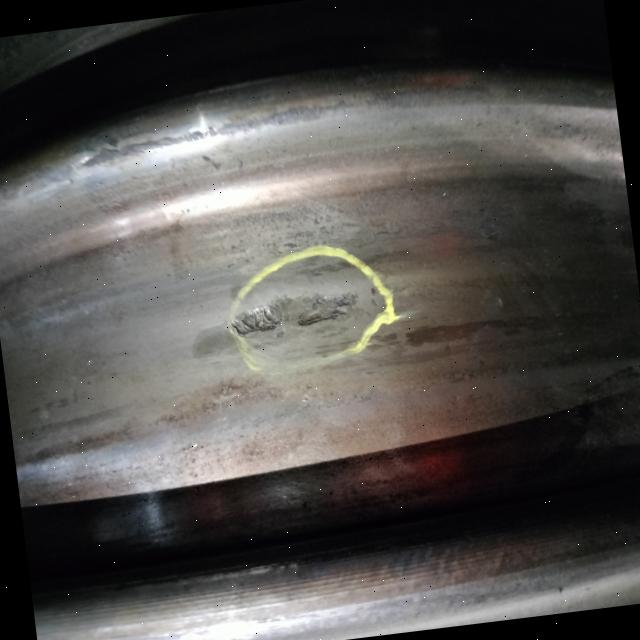Blue hole: (235, 280, 365, 347)
